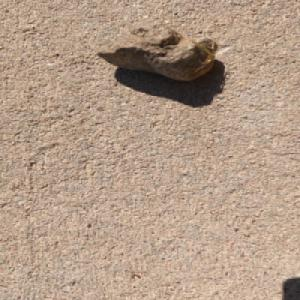Rock: (92, 19, 218, 82)
